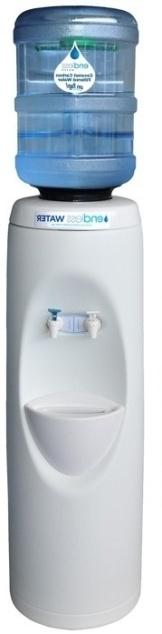Dispenser: (6, 6, 144, 628)
